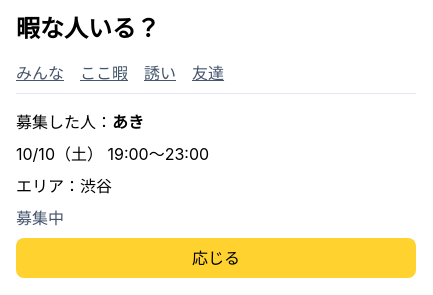
Test: 募集の詳細 › 締め切りましたは静かな灰色。409 なら読み直して静かな文言を出す
Step 1. Click the button "応じる" → x=216, y=258, box [16,238,416,278]
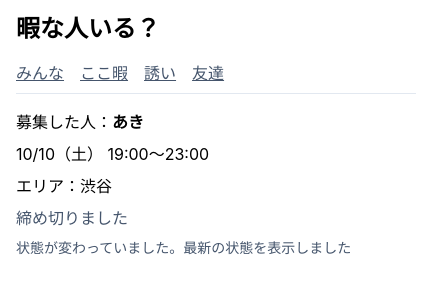
Expected: the text "状態が変わっていました。最新の状態を表示しました" is shown, [16,239,351,256]
Expected: the button "応じる" is gone
